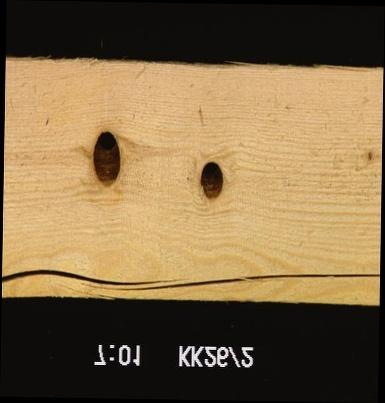split: (1, 267, 379, 294)
wave: (193, 56, 383, 83)
